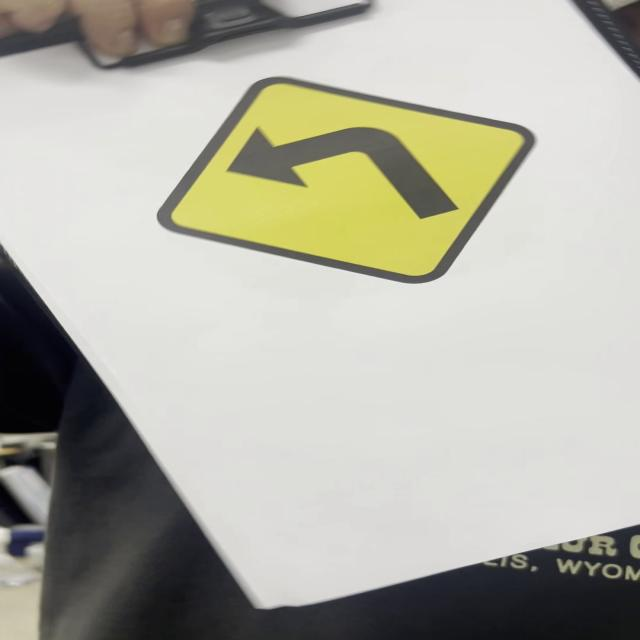left: (160, 75, 536, 286)
